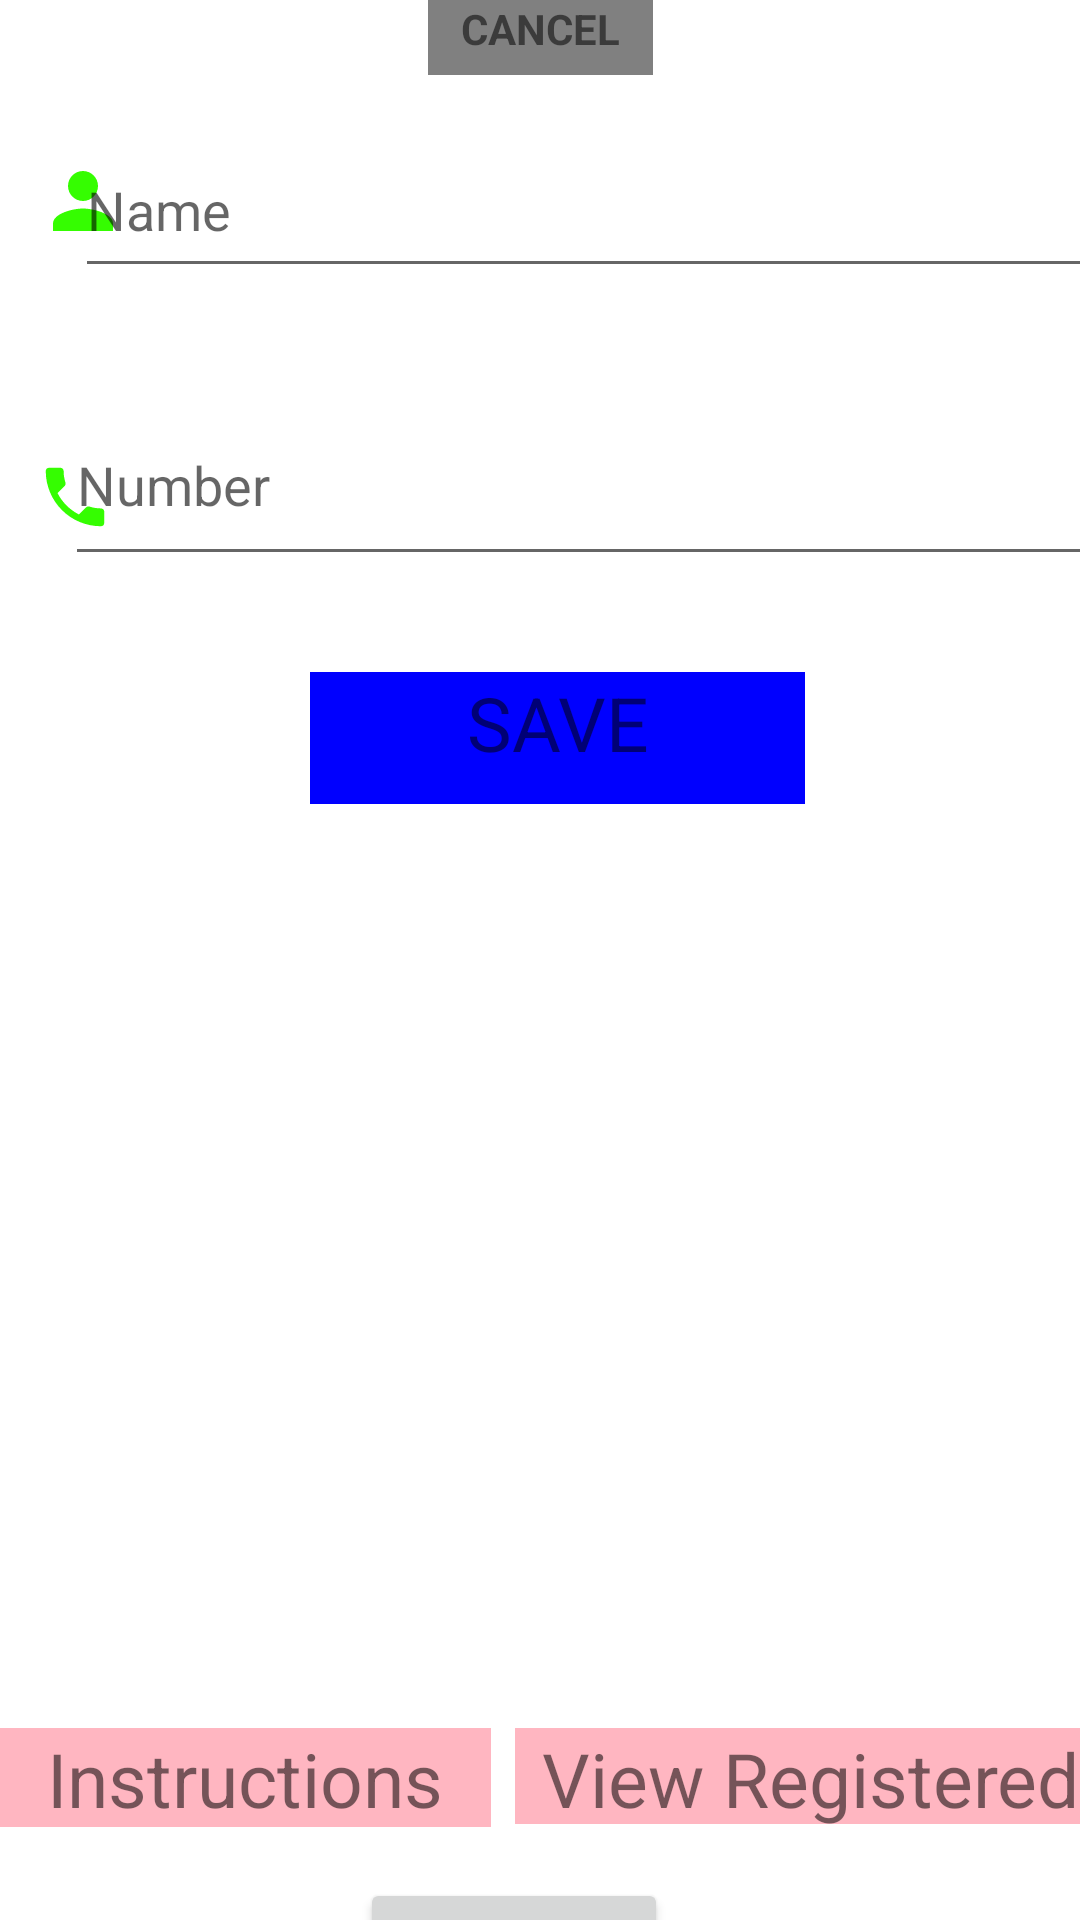

Screen size 1080 × 1920. Icon name, then its center in pixels as (x=x, y=y):
person: (x=87, y=201)
phone: (x=78, y=497)
